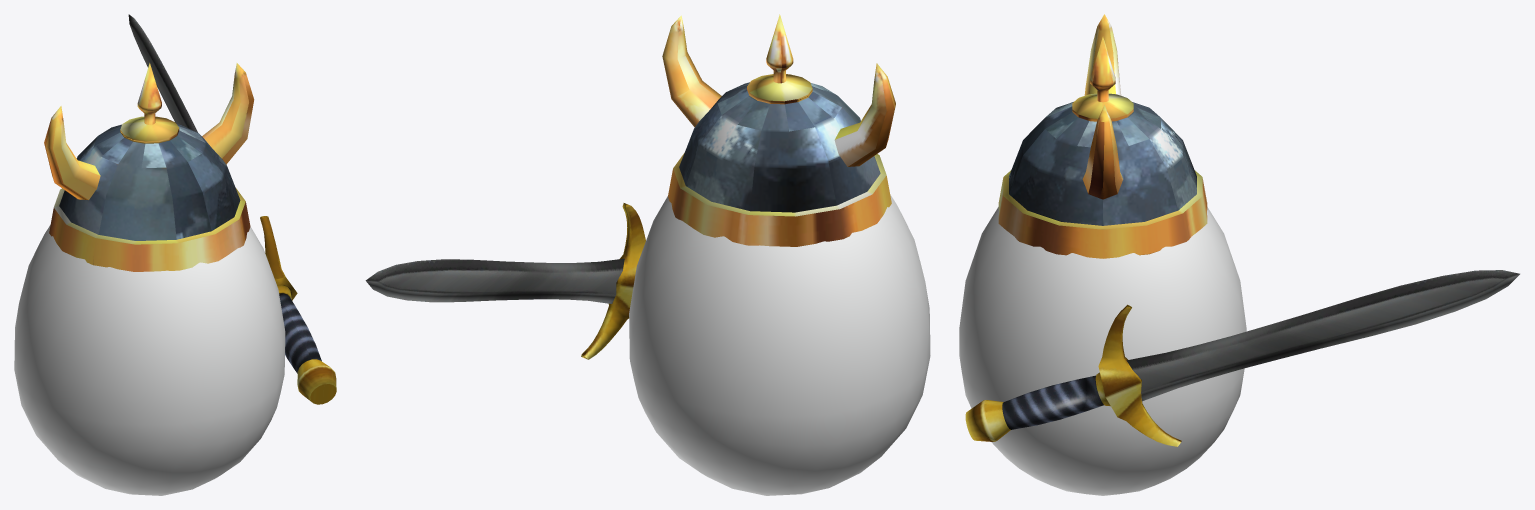
The model's file is vikingo huevo.glb.
3 renders of one model, left to right at view 1: azimuth 30°, elevation 25°; view 2: azimuth 150°, elevation 25°; view 3: azimuth 270°, elevation 25°, orthographic. The views are drawn at different scales.
Parts seen in each view (by area): view 1: vikingo; view 2: vikingo; view 3: vikingo.
Boxes of the visible parts, x1,y1,x2,y2 form: vikingo: [14, 14, 336, 495]; vikingo: [365, 14, 930, 495]; vikingo: [959, 14, 1519, 495].
Size of the model in its own units: 2.5 by 3.41 by 3.88.
Materials: 3 (3 with a texture image).
